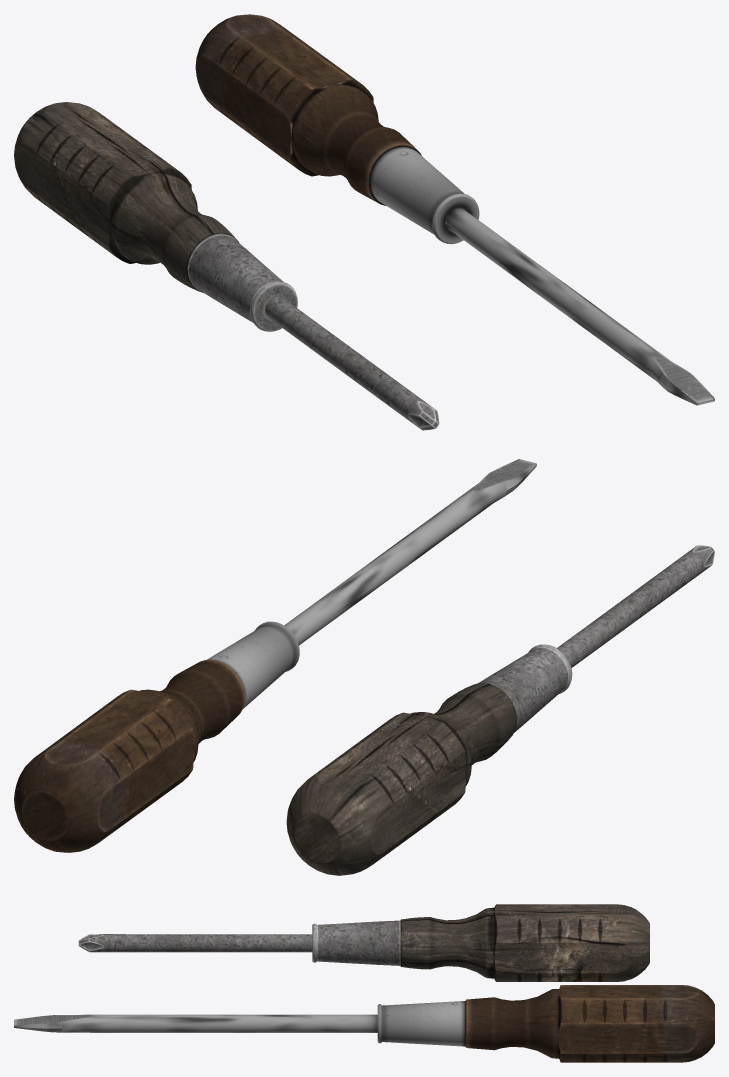
The model's file is screwdrivers_02.glb.
3 views of the same model, one above another, from view 1: azimuth 30°, elevation 25°; view 2: azimuth 150°, elevation 25°; view 3: azimuth 270°, elevation 25° (orthographic). The views are drawn at different scales.
Parts seen in each view (by area): view 1: screwdrivers_02_a, screwdrivers_02_b; view 2: screwdrivers_02_a, screwdrivers_02_b; view 3: screwdrivers_02_a, screwdrivers_02_b.
Part boxes in pixels (x1,y1,x2,y2): screwdrivers_02_a: (195,14,714,405); screwdrivers_02_b: (14,102,439,430); screwdrivers_02_a: (14,459,536,852); screwdrivers_02_b: (286,545,714,875); screwdrivers_02_a: (14,985,714,1062); screwdrivers_02_b: (78,904,649,981).
Size of the model in its own units: 0.1005 by 0.0271 by 0.2699.
Materials: 1 (1 with a texture image).
